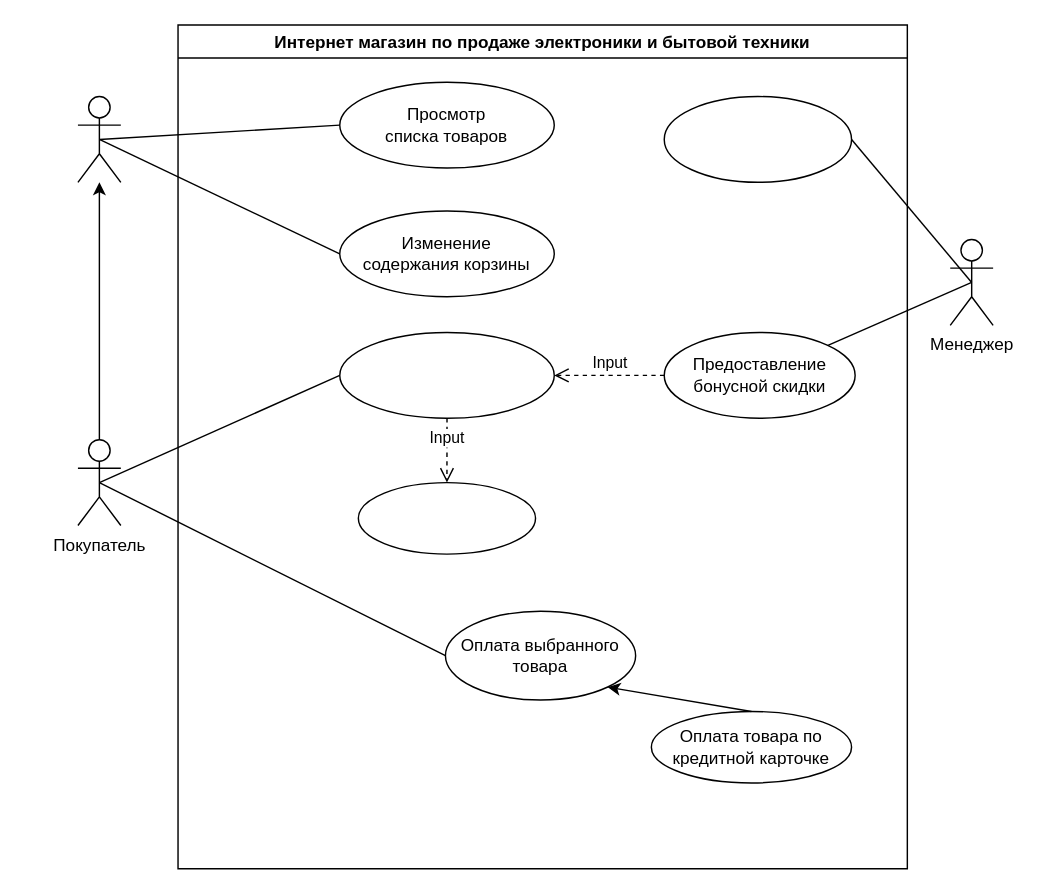
This 1038x894 diagram has some shape labels left out. The shapes that lost their labels are listed below. From the top down, each one's box as (x1, y1, x2, y2) in pixels, then its label:
(77, 95, 121, 182): Посетитель интернет магазина
(663, 95, 852, 182): Изменение списка товаров
(338, 331, 554, 418): Оформление товара на покупку товаров
(357, 481, 536, 554): Регистрация покупателя
